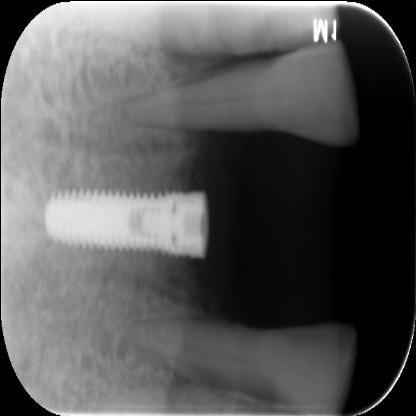Bego: (40, 188, 213, 260)
